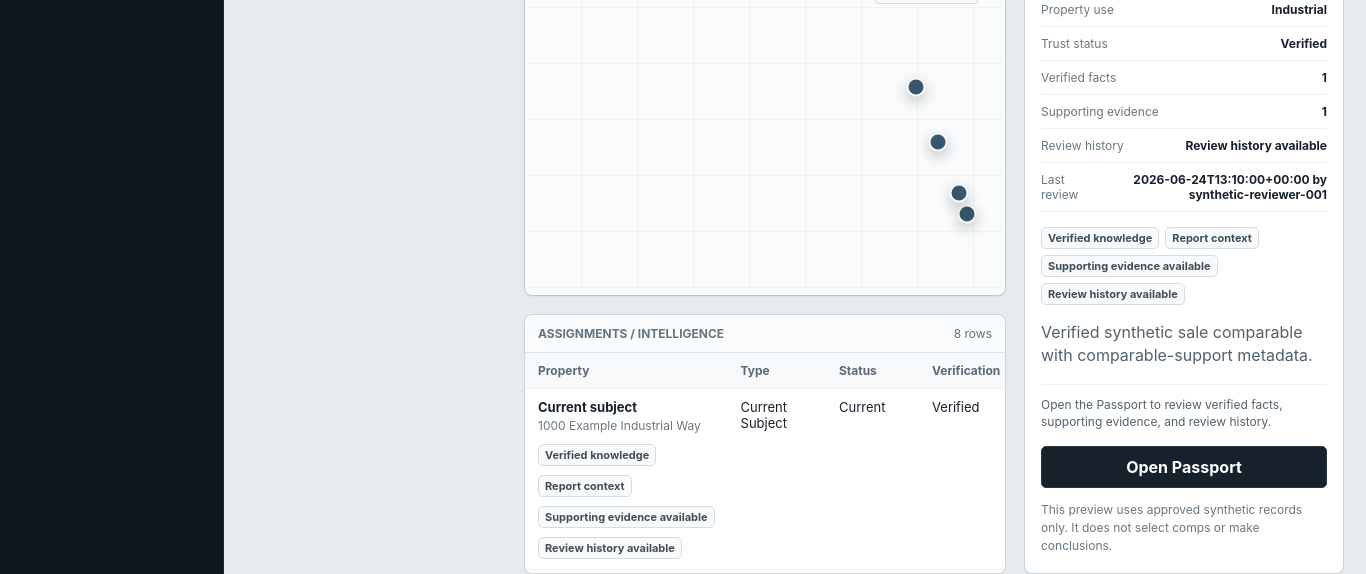
Test case: IntelligenceWorkspacePreview › shows a calm unavailable summary when the selected property is hidden by layers
(page scrolled)
Step 1. Click the button named "Select Current subject" → (967, 214), box [957,204,976,224]
(page scrolled)
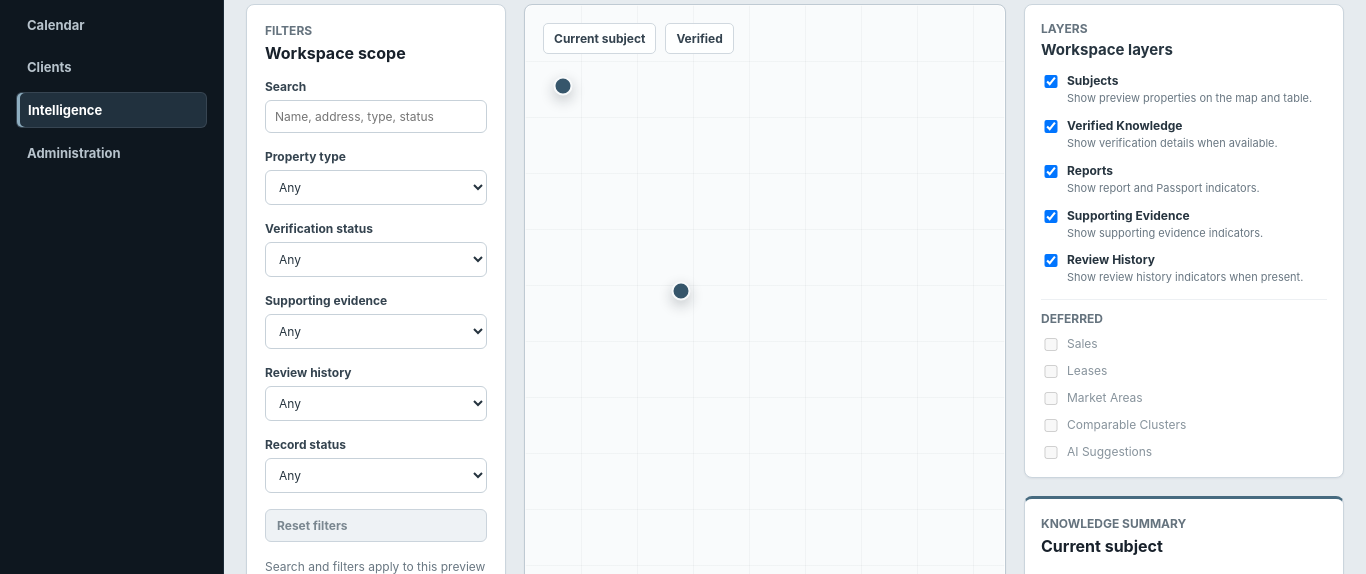
Step 2. Click the checkbox labelled "Subjects Show preview properties on the map and table." → (1051, 82), box [1043,75,1059,88]
(page scrolled)
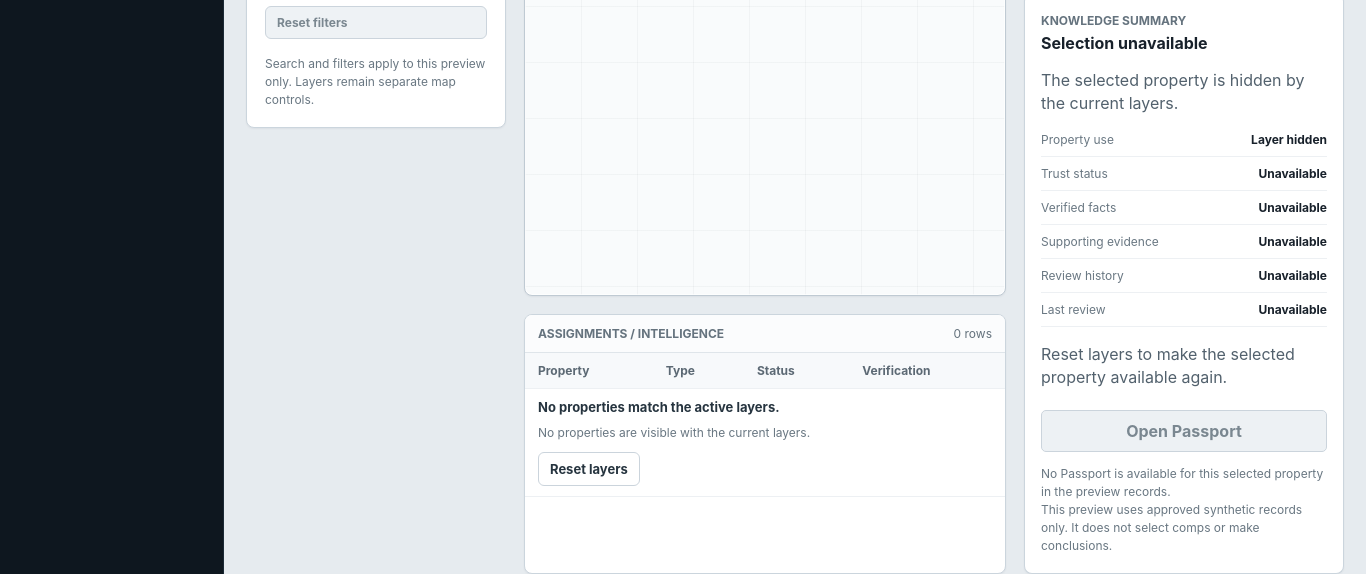
Result: the heading "Selection unavailable" is shown at [1041,33,1208,53]
Result: the text "The selected property is hidden by the current layers." is shown at [1041,69,1327,116]
Result: the button "Open Passport" is disabled at [1041,410,1327,452]
